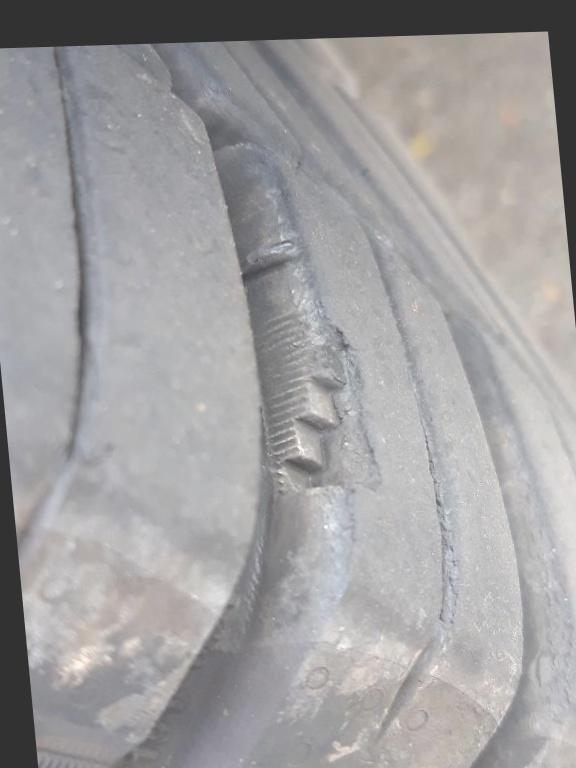temoin:80: (243, 292, 396, 511)
